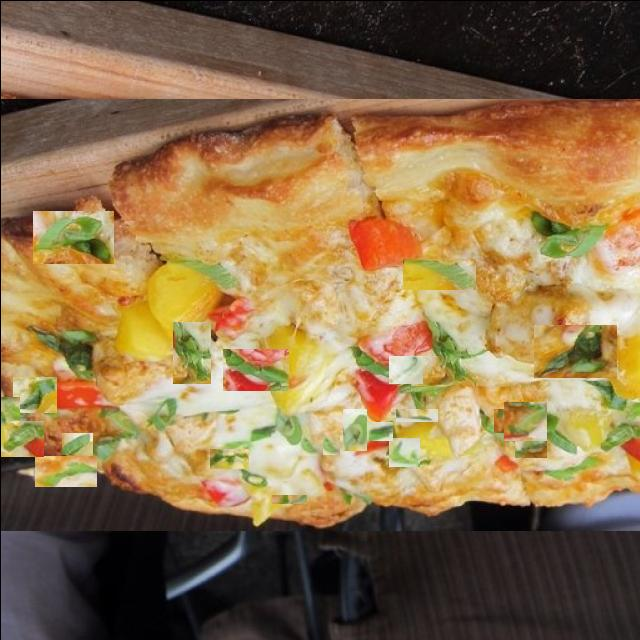basil: (533, 324, 616, 377), (32, 210, 113, 263), (95, 407, 168, 457), (222, 348, 288, 390), (172, 321, 210, 383), (402, 258, 475, 289), (34, 455, 96, 486), (503, 401, 546, 440), (12, 376, 56, 412), (0, 420, 43, 456), (459, 397, 495, 432), (493, 408, 544, 432), (579, 396, 621, 420), (342, 408, 366, 450), (388, 355, 422, 383), (200, 380, 227, 415), (388, 437, 419, 466), (514, 430, 546, 457), (209, 448, 248, 468), (61, 432, 92, 454), (395, 406, 437, 421), (0, 396, 19, 425), (366, 421, 392, 440), (374, 467, 398, 487), (271, 492, 306, 502), (322, 436, 339, 454)
pizza: (0, 98, 640, 530)
